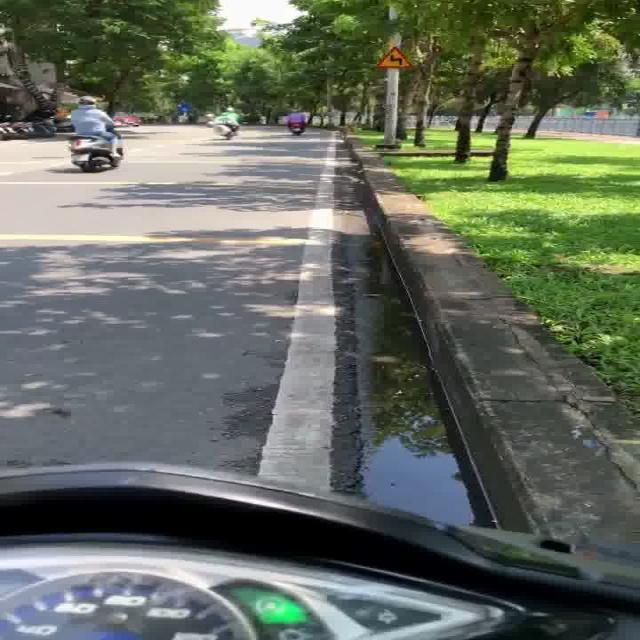Bien bao nhieu cho ngoat nguy hiem lien tiep: (372, 45, 413, 69)
